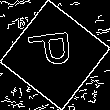P_E: (28, 34, 82, 76)
